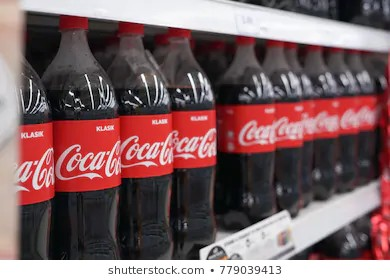coke-bottle-2l: (41, 14, 129, 259), (101, 18, 179, 262), (163, 32, 222, 251), (221, 40, 271, 232)
